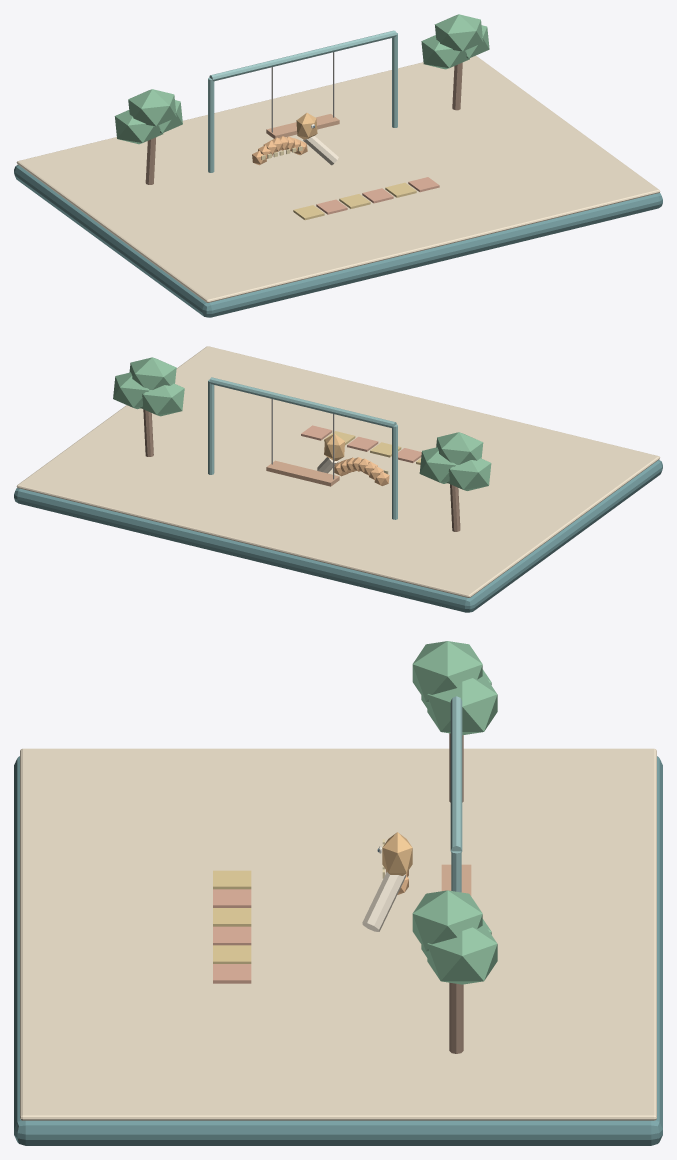
File: playground.glb
3 views of the same model, one above another, from view 1: azimuth 30°, elevation 25°; view 2: azimuth 150°, elevation 25°; view 3: azimuth 270°, elevation 25° (orthographic). The views are drawn at different scales.
Parts seen in each view (by area): view 1: Paving, Stage base, Swing crossbar, Rain tree canopy.002, Rain tree canopy.005, Rain tree canopy.003, Rain tree canopy, Swing frame, Swing seat, Swing frame.001; view 2: Paving, Stage base, Swing crossbar, Rain tree canopy.005, Rain tree canopy.002, Rain tree canopy, Rain tree canopy.003, Swing seat, Rain tree canopy.001, Rain tree canopy.004, Swing frame.001, Swing frame (+3 smaller); view 3: Paving, Stage base, Rain tree canopy.004, Rain tree canopy.005, Rain tree canopy.002, Rain tree canopy.001, Swing crossbar, Slide, Dragon head, Tree trunk.001, Hopscotch square.005, Hopscotch square (+4 smaller).
Boxes of the visible parts, x1=… form: Paving: x1=16, y1=55, x2=660, y2=302; Stage base: x1=14, y1=165, x2=662, y2=317; Swing crossbar: x1=209, y1=30, x2=396, y2=81; Rain tree canopy.002: x1=128, y1=89, x2=176, y2=126; Rain tree canopy.005: x1=434, y1=14, x2=483, y2=51; Rain tree canopy.003: x1=421, y1=35, x2=469, y2=69; Rain tree canopy: x1=114, y1=110, x2=163, y2=144; Swing frame: x1=208, y1=77, x2=214, y2=172; Swing seat: x1=266, y1=114, x2=339, y2=138; Swing frame.001: x1=392, y1=32, x2=397, y2=127; Paving: x1=16, y1=346, x2=660, y2=597; Stage base: x1=14, y1=460, x2=662, y2=612; Swing crossbar: x1=209, y1=377, x2=396, y2=428; Rain tree canopy.005: x1=129, y1=357, x2=176, y2=389; Rain tree canopy.002: x1=436, y1=432, x2=483, y2=464; Rain tree canopy: x1=446, y1=458, x2=491, y2=490; Rain tree canopy.003: x1=140, y1=383, x2=184, y2=416; Swing seat: x1=266, y1=460, x2=339, y2=486; Rain tree canopy.001: x1=419, y1=447, x2=455, y2=483; Rain tree canopy.004: x1=113, y1=372, x2=149, y2=409; Swing frame.001: x1=208, y1=379, x2=214, y2=474; Swing frame: x1=392, y1=424, x2=397, y2=519; Paving: x1=20, y1=748, x2=656, y2=1120; Stage base: x1=14, y1=756, x2=662, y2=1145; Rain tree canopy.004: x1=427, y1=923, x2=497, y2=984; Rain tree canopy.005: x1=412, y1=890, x2=482, y2=951; Rain tree canopy.002: x1=412, y1=641, x2=482, y2=702; Rain tree canopy.001: x1=427, y1=674, x2=497, y2=735; Swing crossbar: x1=450, y1=696, x2=462, y2=851; Slide: x1=362, y1=872, x2=405, y2=931; Dragon head: x1=382, y1=832, x2=412, y2=875; Tree trunk.001: x1=449, y1=982, x2=463, y2=1053; Hopscotch square.005: x1=213, y1=964, x2=251, y2=983; Hopscotch square: x1=213, y1=870, x2=251, y2=889.
Size of the model in its own units: 15 by 3.7 by 11.
